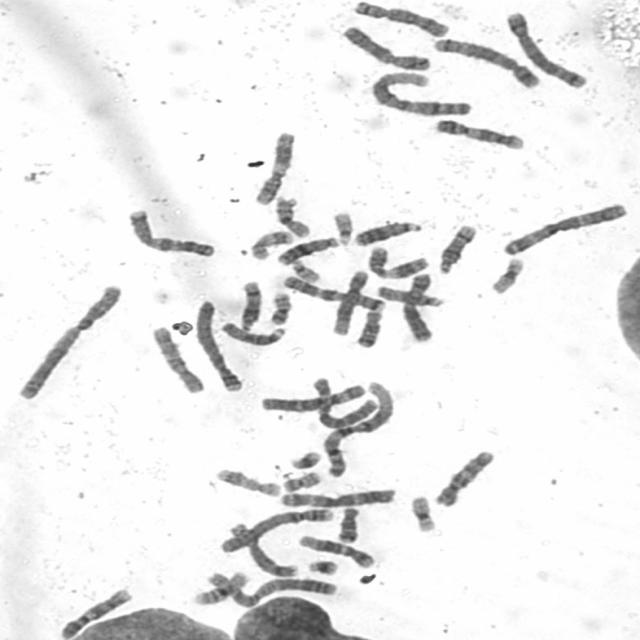A1: (317, 374, 398, 478), (364, 66, 474, 118)
A2: (10, 278, 124, 402), (193, 566, 342, 608)
A3: (495, 197, 631, 257), (274, 483, 398, 509)
B4: (214, 503, 336, 554), (191, 295, 245, 393)
B5: (500, 5, 590, 90), (427, 32, 543, 90)
C10: (145, 320, 207, 394), (428, 444, 498, 508)
C11: (248, 126, 297, 207), (361, 240, 430, 280)
C12: (293, 530, 377, 569), (326, 265, 372, 336)
C6: (306, 372, 380, 431), (255, 378, 369, 414)
C7: (122, 204, 218, 258), (278, 271, 388, 312)
C8: (222, 517, 300, 579), (348, 0, 452, 38)
C9: (54, 583, 134, 639), (428, 114, 527, 151)
D13: (348, 215, 424, 247), (272, 232, 341, 266)
D14: (432, 219, 478, 275), (233, 275, 264, 332)
D15: (216, 317, 287, 347), (372, 281, 446, 308)
E16: (187, 567, 251, 606), (268, 190, 314, 239)
E17: (210, 463, 284, 498), (244, 225, 296, 261)
E18: (350, 305, 385, 349), (332, 502, 362, 544)
F19: (484, 252, 527, 295), (405, 490, 438, 533)
F20: (263, 286, 294, 326), (277, 466, 323, 492)
G21: (284, 445, 323, 470), (302, 555, 340, 576)
G22: (326, 206, 356, 247), (286, 255, 322, 283)
X: (335, 21, 433, 72), (396, 268, 436, 342)
